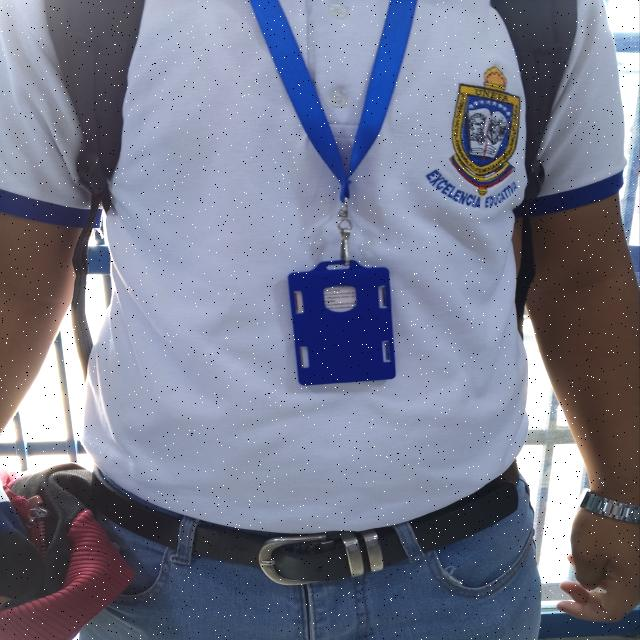carnet: (287, 266, 396, 385)
uniforme_superior: (0, 0, 624, 534)
